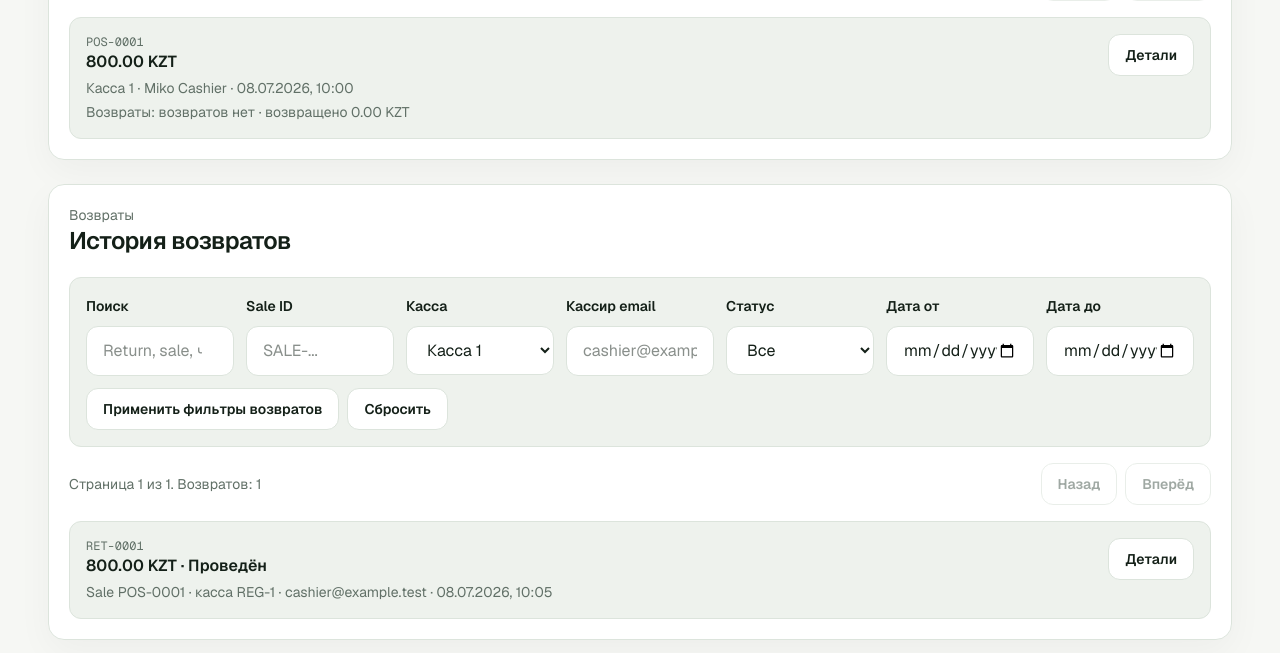
Scenario: POSManager returns flow › applies returns filters and opens return detail
(page scrolled)
Type "RET" into the search field labelled "Поиск" at [160, 351], box [86,326,234,376]
Type "SALE-1" into the field labelled "Sale ID" at [320, 351], box [246,326,394,376]
Type "cashier@example.test" into the field labelled "Кассир email" at [640, 351], box [566,326,714,376]
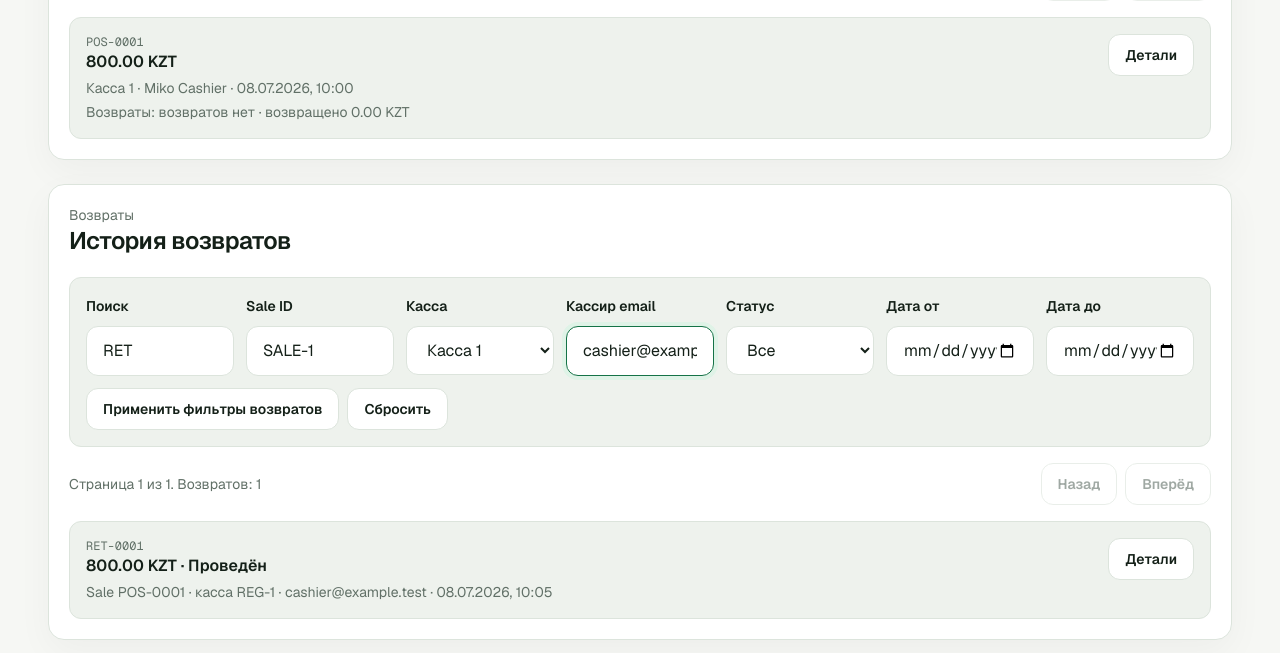
Select "Проведён" in the dropdown labelled "Статус" at [800, 350], box [726,326,874,375]
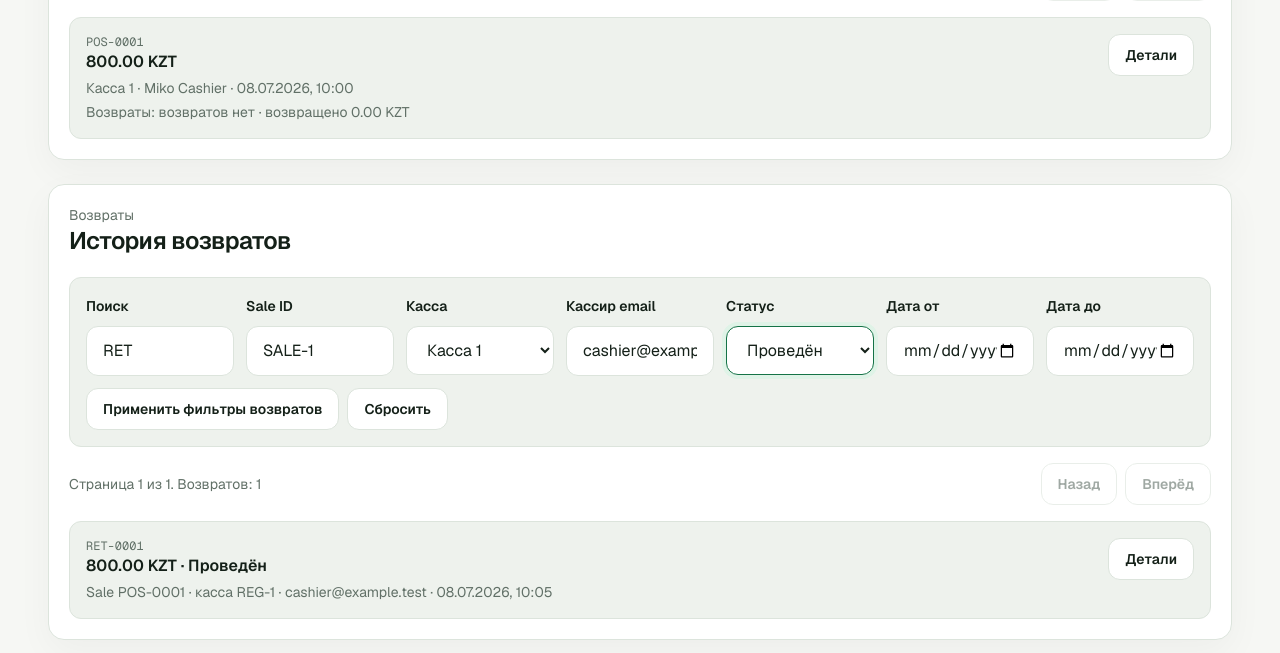
Type "2026-07-08" into the date field labelled "Дата от" at [960, 351], box [886,326,1034,376]
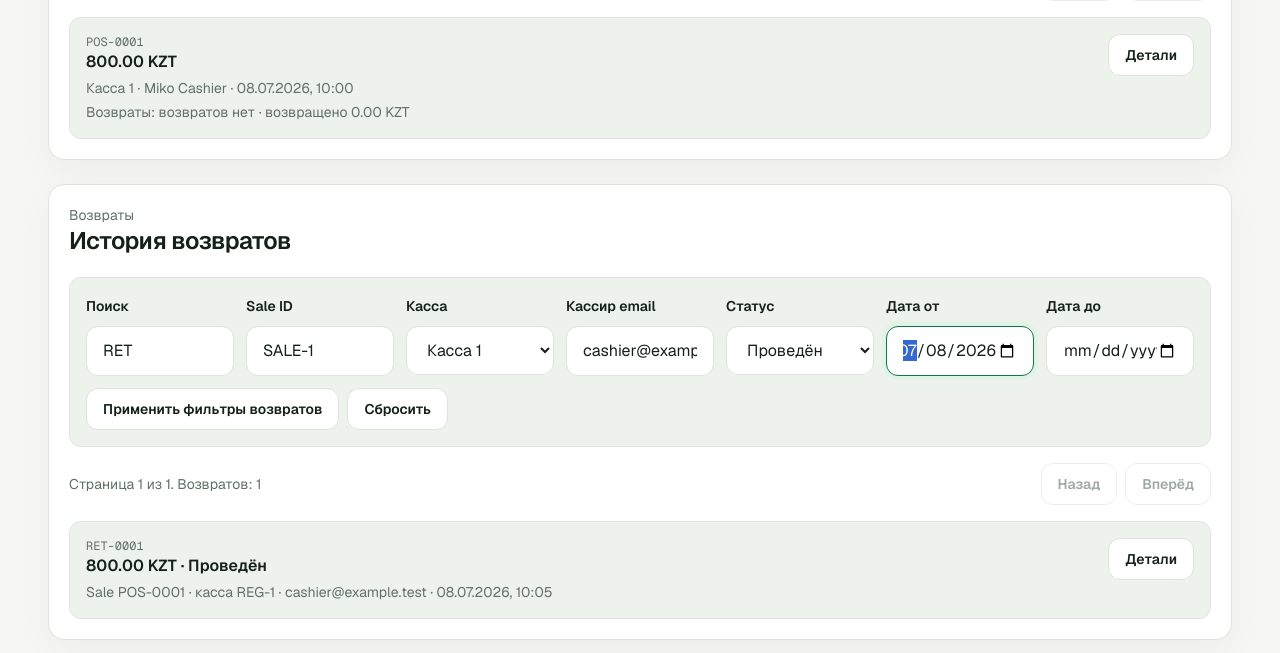
Type "2026-07-09" into the date field labelled "Дата до" at [1120, 351], box [1046,326,1194,376]
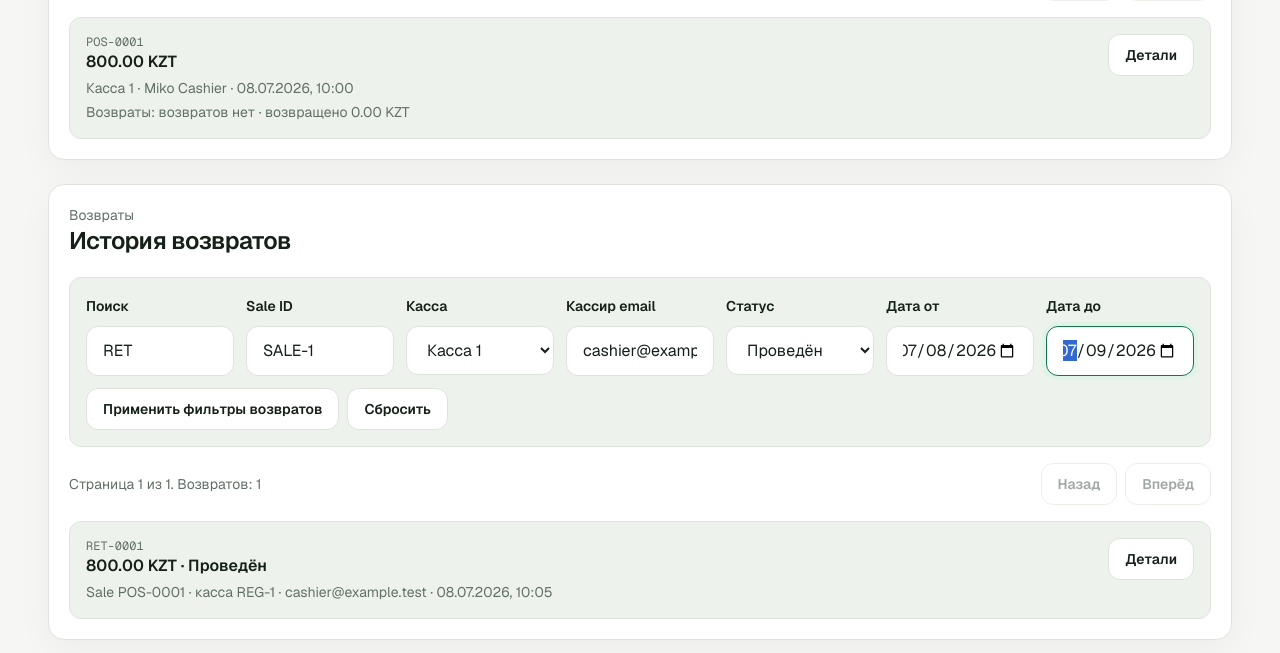
Click the button "Применить фильтры возвратов" at [213, 409], box [86,388,339,430]
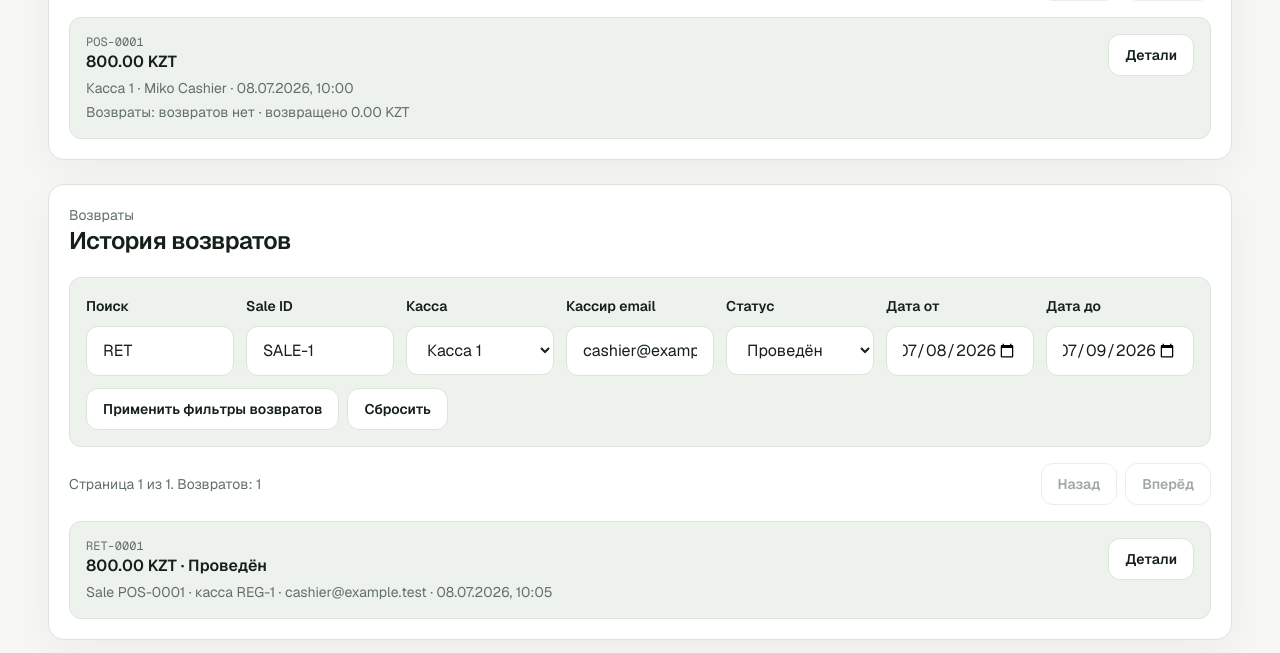
Expected: the text "RET-0001" is shown, [86,538,144,554]
Click the button "Детали" in the row of "Проведён" at [1151, 559], box [1108,538,1194,580]
(page scrolled)
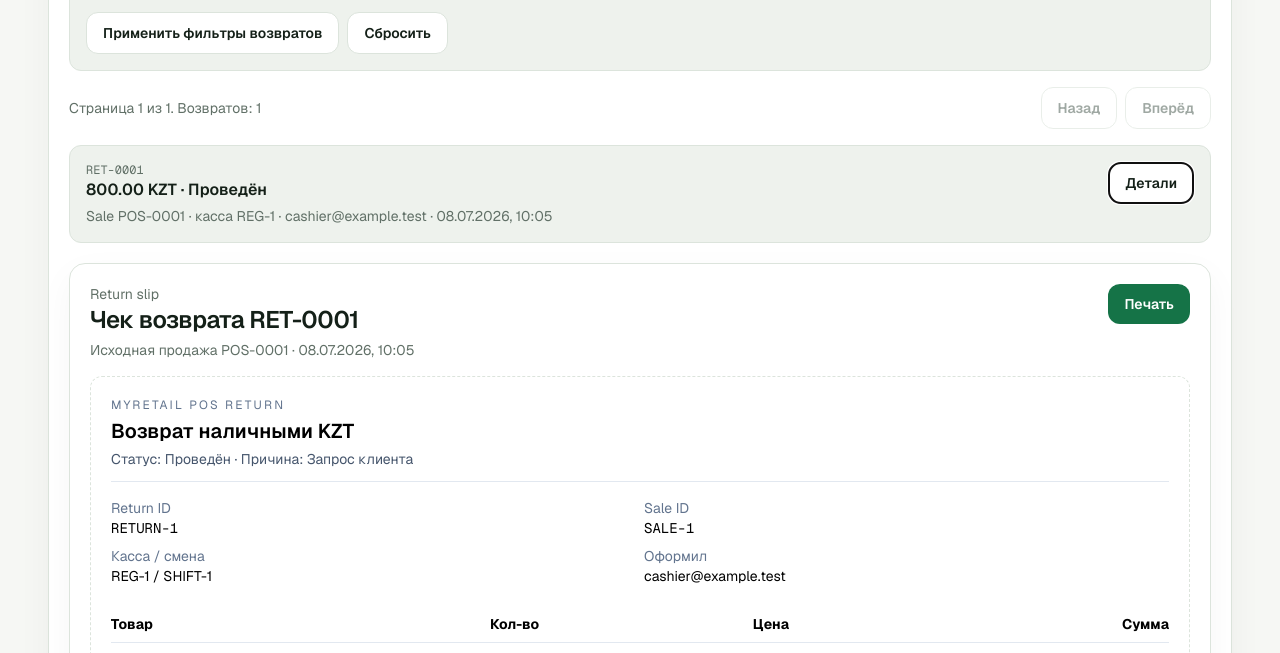
Now the heading "Чек возврата RET-0001" is shown, box [90,304,359,335]
